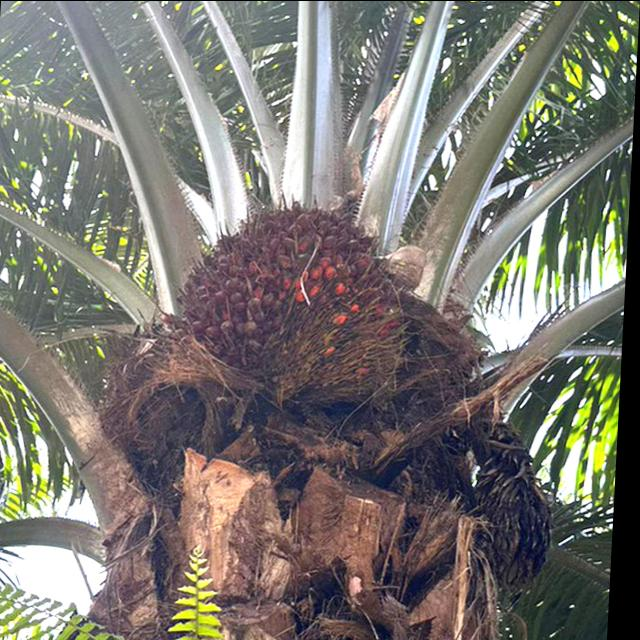ripe: (171, 196, 414, 396)
